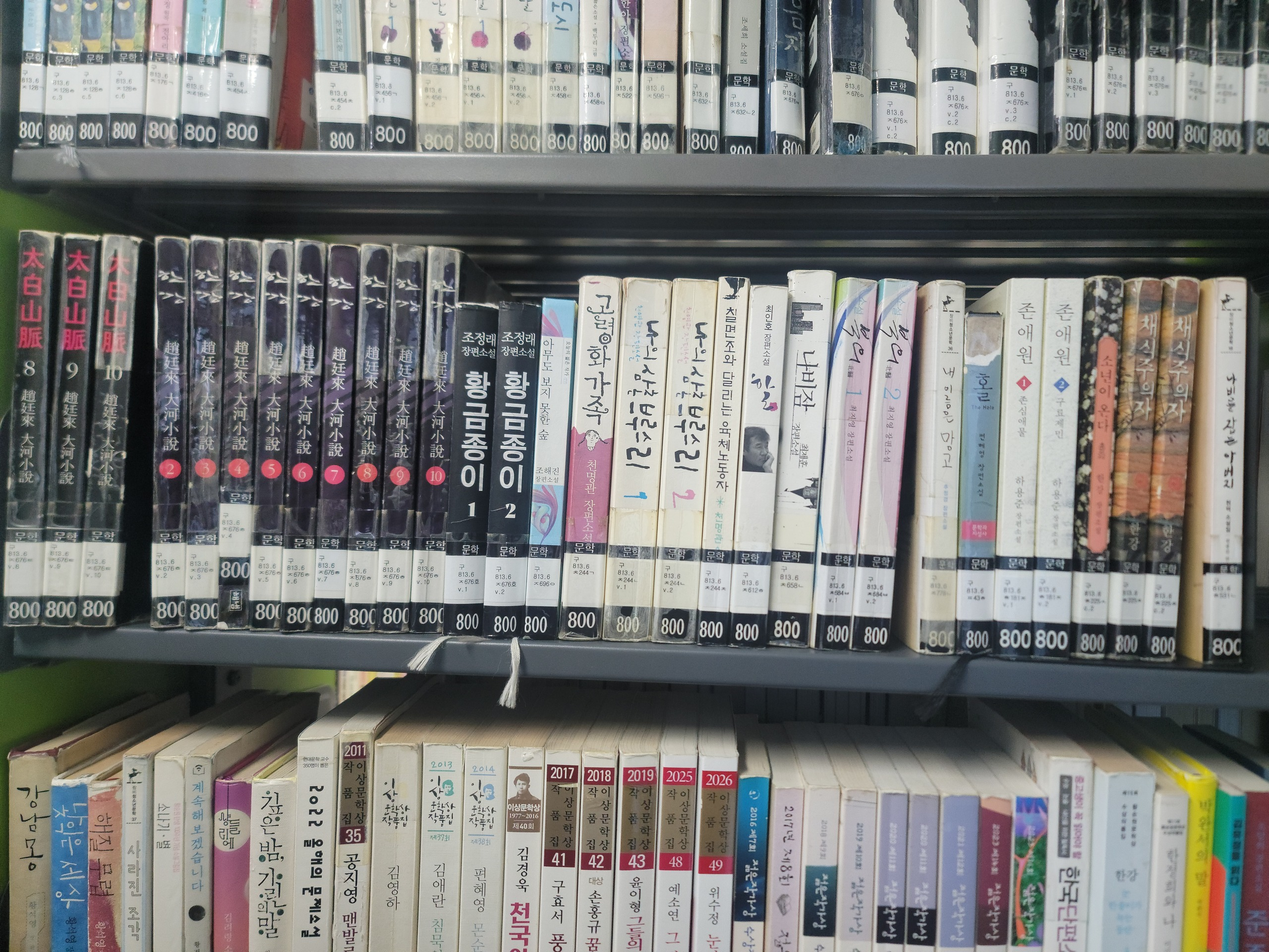book-spine: (75, 235, 141, 627), (601, 279, 672, 642), (850, 280, 918, 652), (767, 272, 834, 649), (811, 278, 878, 652), (650, 279, 716, 645), (558, 277, 623, 641), (38, 237, 98, 626), (1142, 279, 1200, 662), (728, 285, 789, 647), (0, 231, 55, 626), (1107, 280, 1163, 660), (1031, 279, 1085, 660), (694, 277, 749, 648), (992, 278, 1045, 658), (407, 247, 459, 634), (374, 245, 425, 634), (481, 302, 540, 638), (1072, 277, 1123, 660), (342, 244, 391, 633), (310, 245, 359, 633), (279, 240, 327, 633), (522, 298, 577, 639), (442, 304, 498, 637), (247, 242, 293, 631), (918, 282, 966, 654), (215, 238, 260, 630), (182, 236, 225, 630), (955, 311, 1004, 654), (1207, 279, 1248, 665), (150, 238, 189, 629)
